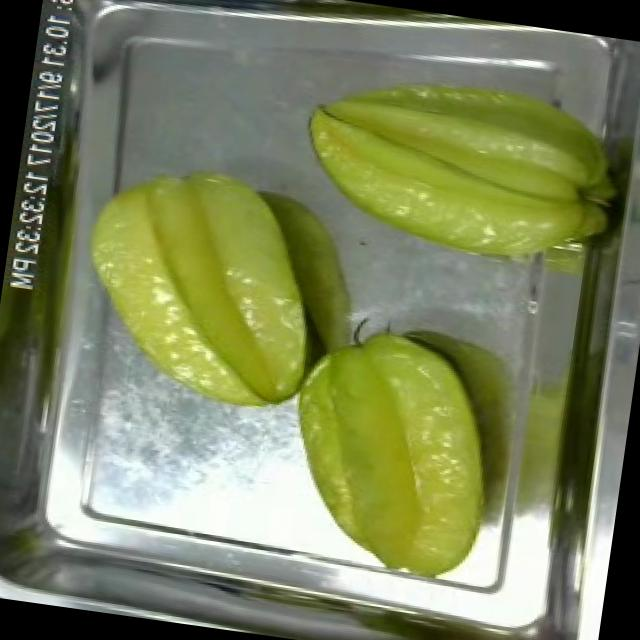fruit: (279, 44, 638, 286), (59, 143, 340, 427), (268, 306, 518, 594)
